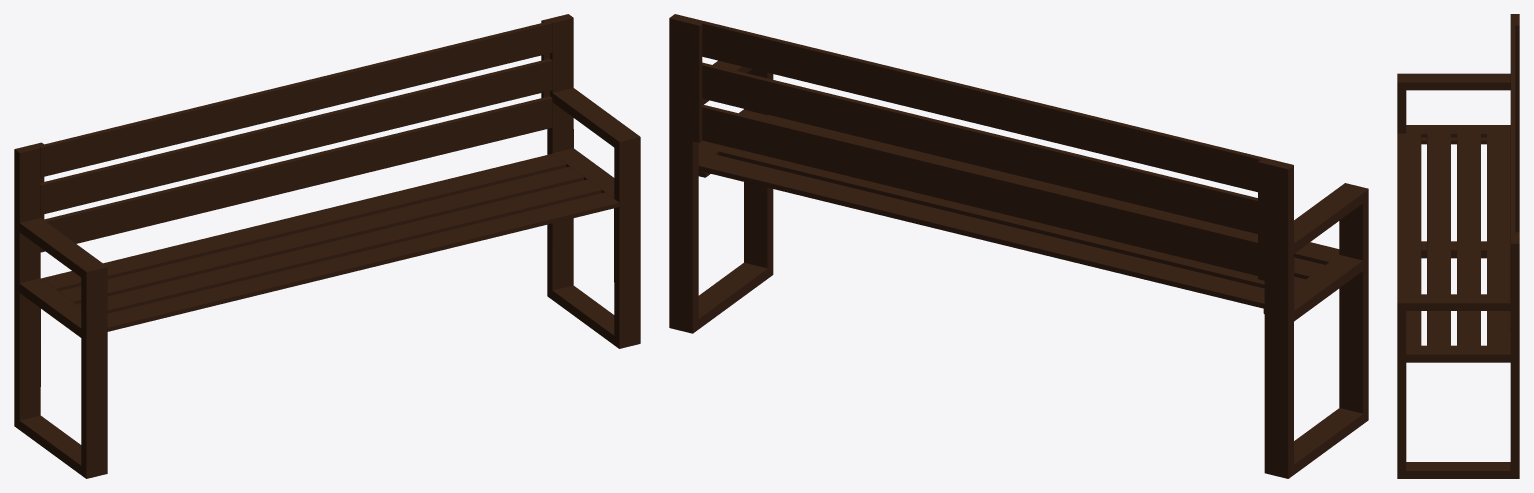
Rendered from solins.fbx.
3 views of the same model, side by side, from view 1: azimuth 30°, elevation 25°; view 2: azimuth 150°, elevation 25°; view 3: azimuth 270°, elevation 25° (orthographic). The views are drawn at different scales.
Parts seen in each view (by area): view 1: Bench; view 2: Bench; view 3: Bench.
Boxes of the visible parts, box(x1,y1,x2,y2) form: Bench: box(14, 14, 640, 478); Bench: box(669, 14, 1368, 478); Bench: box(1397, 14, 1519, 478).
Size of the model in its own units: 4.01 by 1.92 by 0.9036.
